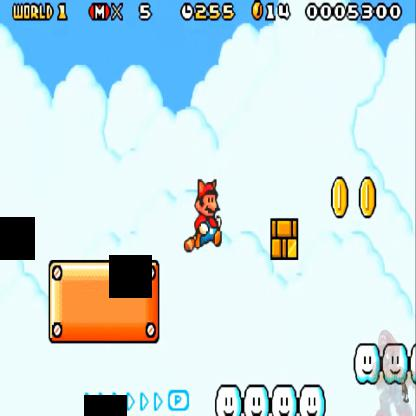Mario: (184, 178, 223, 256)
moneda: (329, 174, 350, 220), (359, 174, 377, 218), (249, 0, 264, 27)
